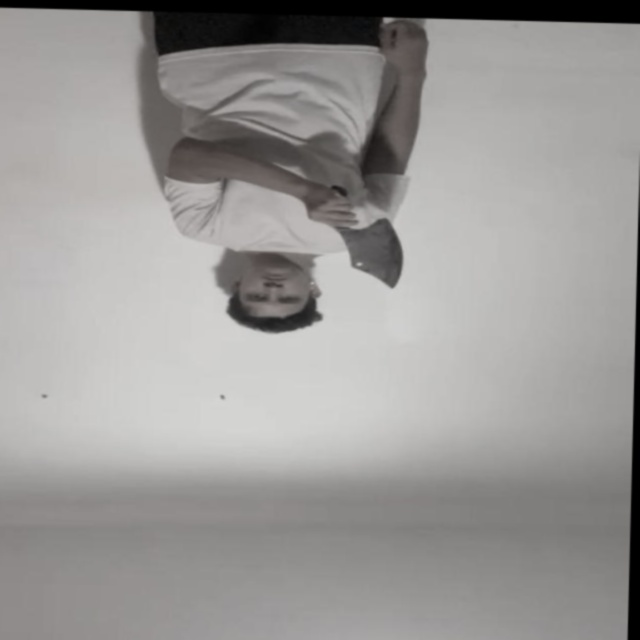Sharp-Object: (338, 222, 406, 292)
